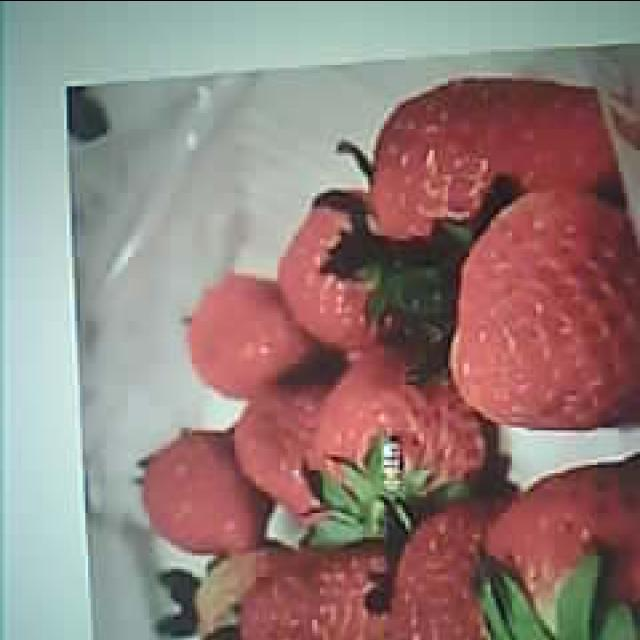strawberry: (448, 192, 640, 432), (370, 76, 634, 239), (324, 346, 483, 514)
